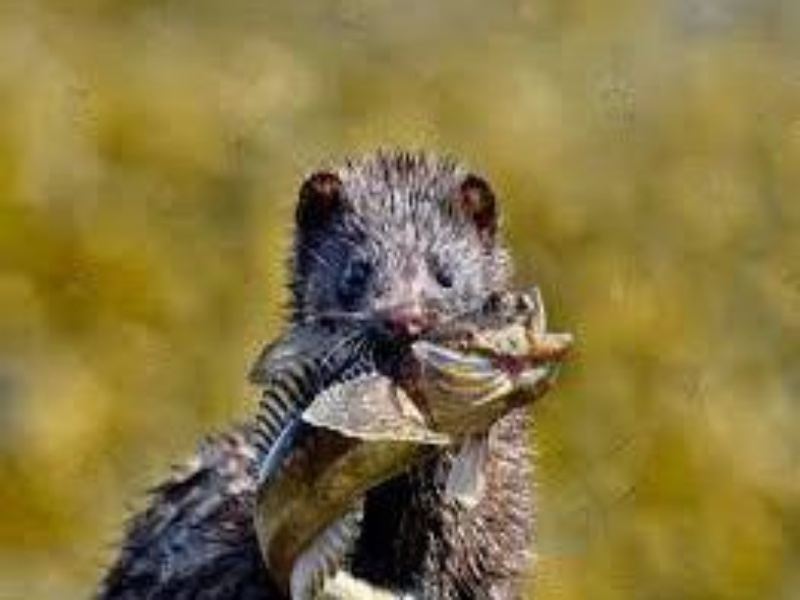minkish: (95, 146, 536, 600)
